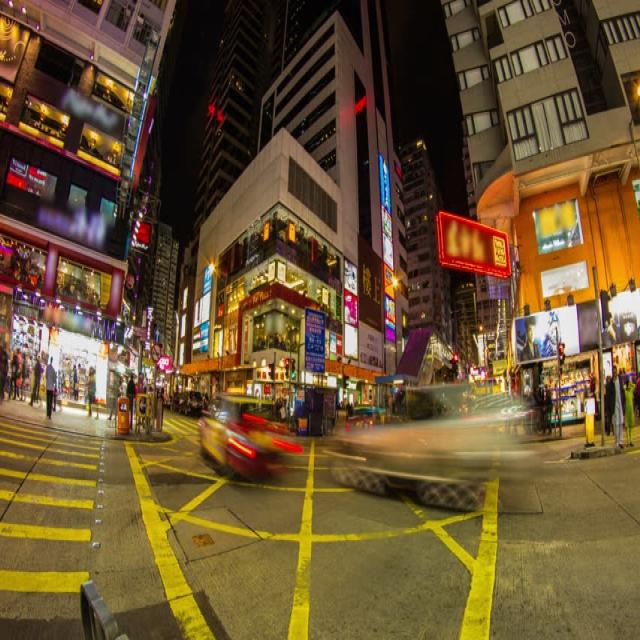body: (0, 258, 106, 306), (390, 377, 475, 424), (378, 153, 397, 350), (520, 369, 562, 442), (277, 262, 330, 314), (251, 311, 298, 360), (169, 378, 221, 422), (517, 283, 543, 361), (322, 381, 372, 419), (606, 362, 627, 450), (119, 366, 162, 406), (250, 387, 292, 424), (623, 373, 637, 448), (501, 382, 518, 442), (602, 372, 616, 439), (44, 355, 57, 420), (71, 357, 87, 407), (613, 349, 633, 387), (6, 347, 20, 401), (13, 347, 35, 380), (106, 372, 119, 421), (32, 352, 44, 404), (0, 334, 8, 408), (125, 372, 135, 431), (343, 257, 359, 292), (20, 349, 30, 404), (579, 368, 589, 421), (87, 366, 97, 418), (14, 346, 23, 402), (248, 222, 261, 258), (57, 367, 72, 396), (632, 368, 640, 421), (144, 384, 153, 429), (158, 387, 166, 432), (228, 325, 239, 355), (151, 383, 158, 428), (117, 373, 129, 399), (588, 372, 597, 404), (134, 381, 139, 415), (156, 382, 162, 406)
